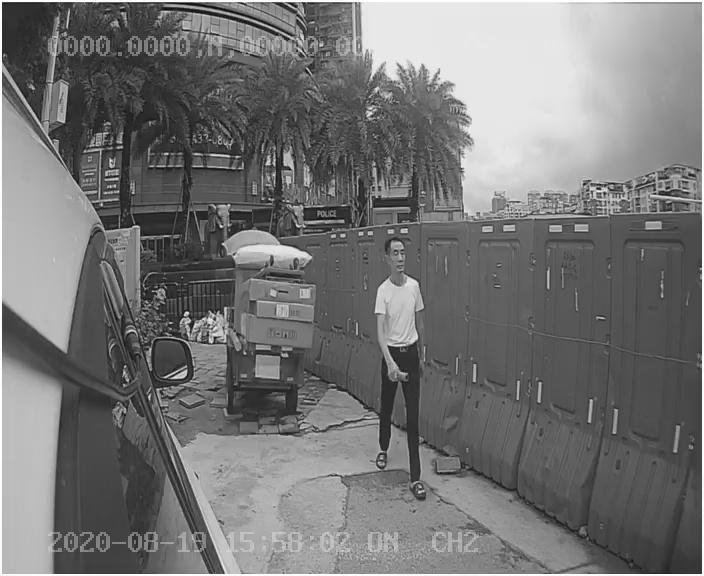person: (361, 231, 444, 503)
